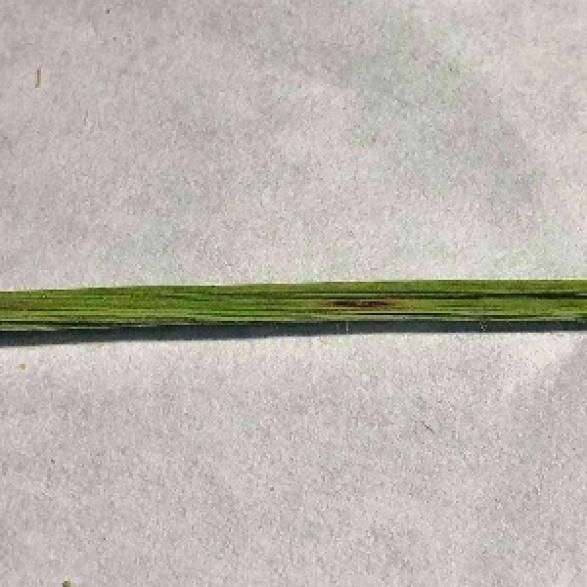Leaf_smut: (225, 270, 413, 317)
